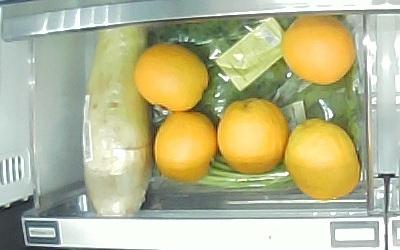orange: (285, 119, 360, 201), (218, 98, 289, 174), (134, 43, 208, 112), (282, 15, 356, 84), (154, 112, 217, 183)
